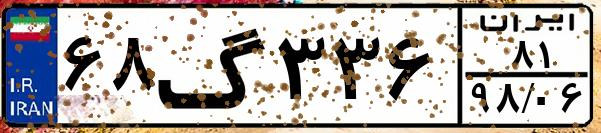0: (535, 70, 560, 125)
1: (537, 27, 568, 80)
3: (270, 28, 330, 110), (330, 28, 385, 110)
6: (385, 28, 445, 110), (57, 26, 110, 100), (560, 70, 590, 125)
8: (110, 28, 156, 98), (508, 27, 537, 80), (495, 70, 520, 125)
9: (470, 70, 495, 125)
گ: (156, 12, 270, 120)
